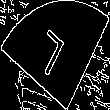L_SW: (35, 25, 75, 85)
